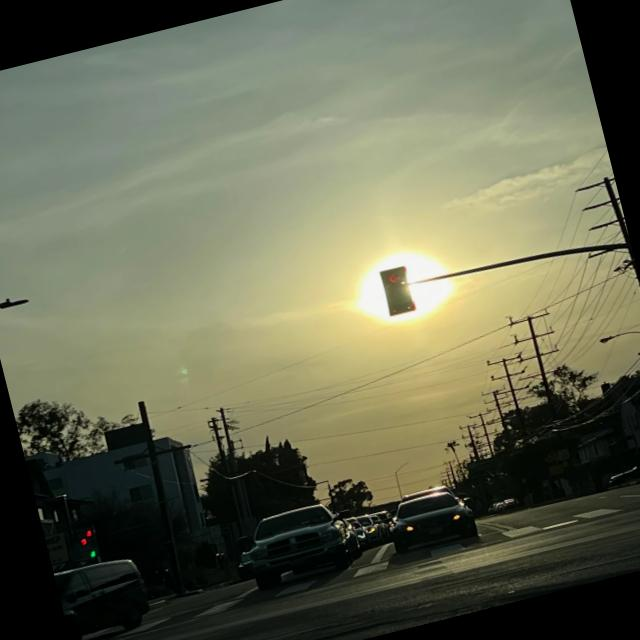Vehicle: (237, 494, 364, 591), (382, 478, 514, 564)
